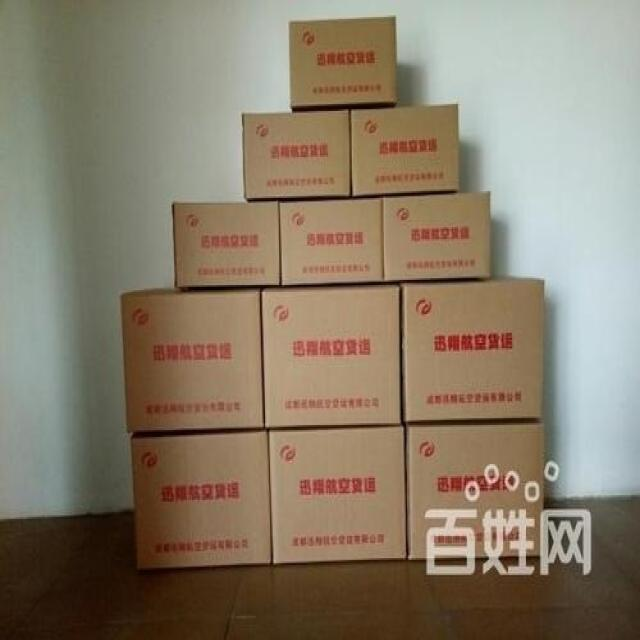box: (401, 275, 544, 422), (122, 287, 264, 435), (262, 282, 402, 427), (132, 430, 271, 570), (406, 420, 545, 560), (269, 425, 407, 565), (289, 17, 397, 111), (242, 109, 351, 201), (383, 191, 492, 282), (351, 104, 458, 196), (173, 201, 280, 287), (280, 198, 384, 285)
